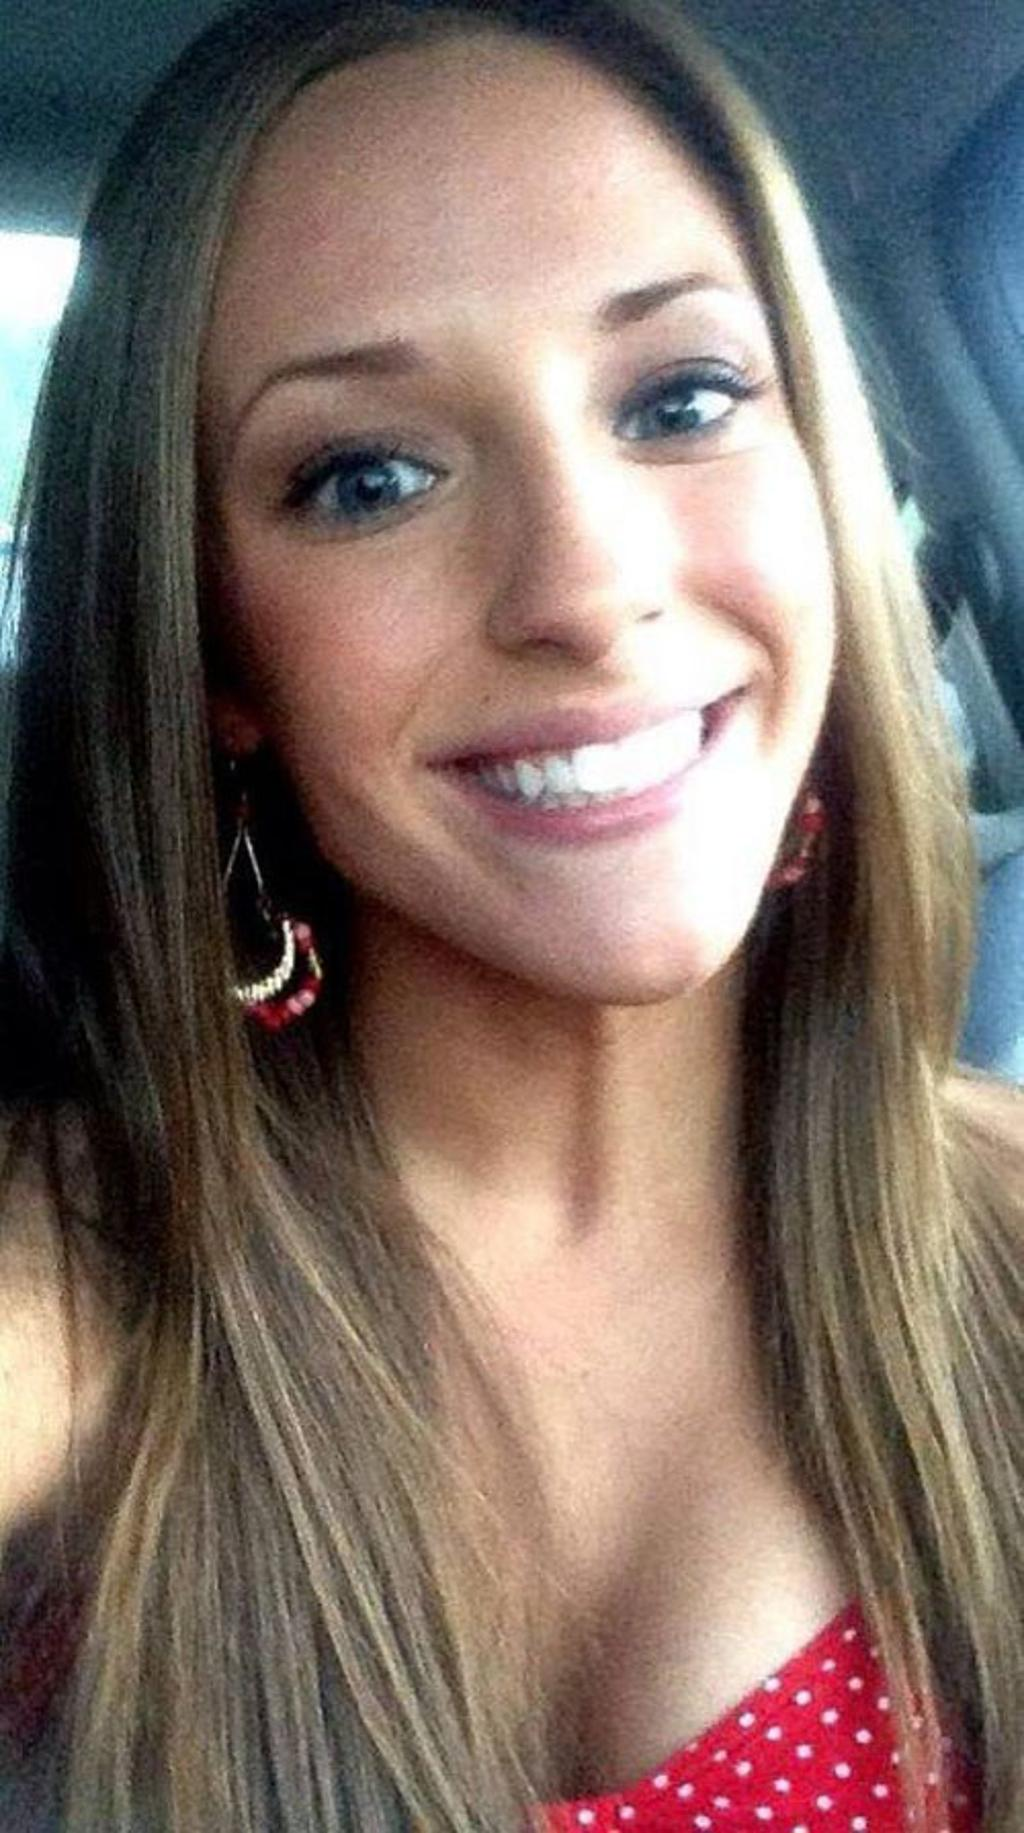face: (211, 36, 838, 996)
